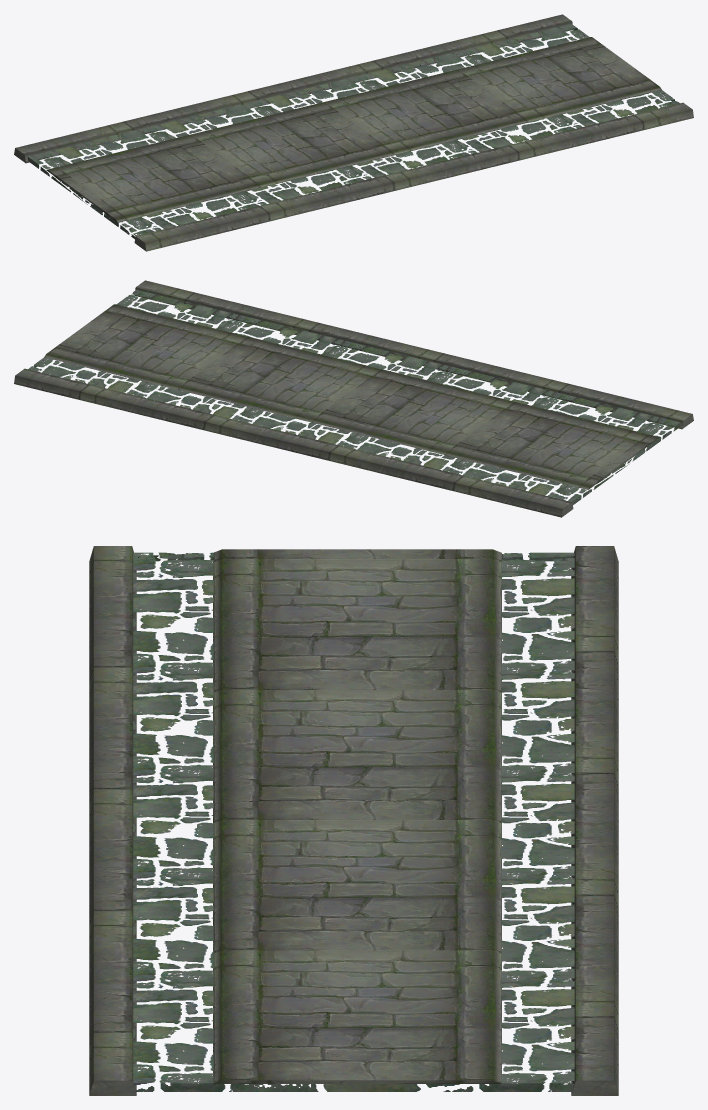
File: environment_Building_qingsangcheng_001_l.FBX
3 views of the same model, one above another, from view 1: azimuth 30°, elevation 25°; view 2: azimuth 150°, elevation 25°; view 3: azimuth 270°, elevation 25° (orthographic). The views are drawn at different scales.
Visible parts, largest first — view 1: environment_Building_qingsangcheng_001_l01, environment_Building_qingsangcheng_001_l02, environment_Building_qingsangcheng_001_l03; view 2: environment_Building_qingsangcheng_001_l01, environment_Building_qingsangcheng_001_l02, environment_Building_qingsangcheng_001_l03; view 3: environment_Building_qingsangcheng_001_l01, environment_Building_qingsangcheng_001_l03, environment_Building_qingsangcheng_001_l02.
Part boxes in pixels (<box>): environment_Building_qingsangcheng_001_l01: <box>46,37,661,222</box>; environment_Building_qingsangcheng_001_l02: <box>14,14,693,251</box>; environment_Building_qingsangcheng_001_l03: <box>27,24,679,238</box>; environment_Building_qingsangcheng_001_l01: <box>44,304,659,489</box>; environment_Building_qingsangcheng_001_l02: <box>14,280,693,517</box>; environment_Building_qingsangcheng_001_l03: <box>28,290,680,504</box>; environment_Building_qingsangcheng_001_l01: <box>213,549,501,1083</box>; environment_Building_qingsangcheng_001_l03: <box>133,552,574,1091</box>; environment_Building_qingsangcheng_001_l02: <box>89,546,618,1095</box>.
Bounding box in the file's own units: 2681 × 1122 × 35.54.
2 materials, 2 textured.
